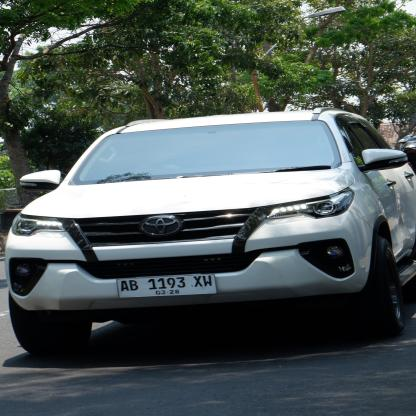Plat-Nomor: (113, 271, 224, 300)
